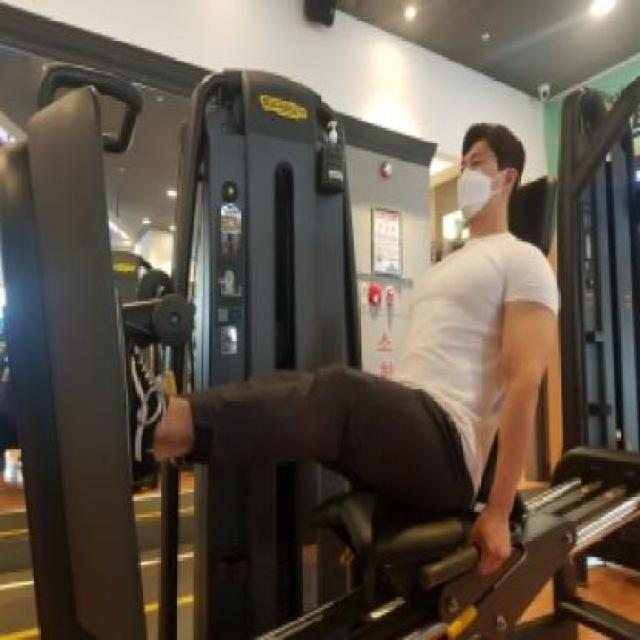leg press: (0, 32, 618, 639)
